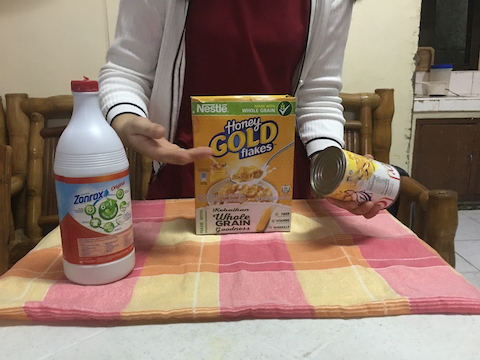bottle: (51, 73, 142, 287)
box: (186, 90, 301, 239)
can: (310, 144, 405, 210)
grab: (337, 196, 383, 223)
